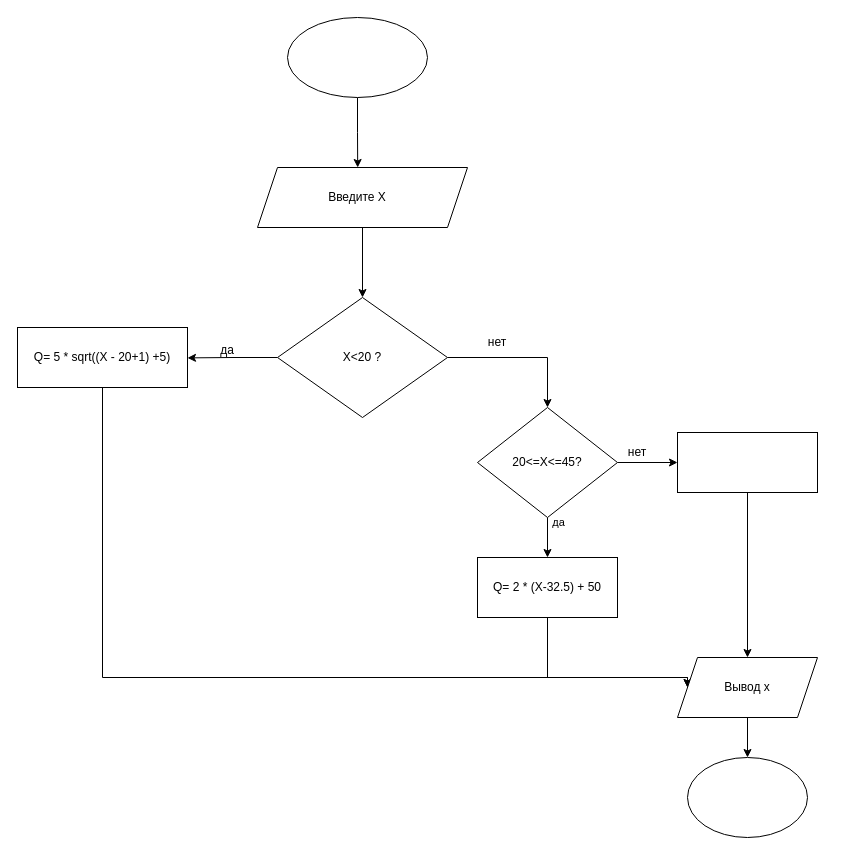
Some shapes in this 843 by 855 pixel diagram are drawn without their labels. Here are the shapes that lost their labels. From the top down, the box of each, then its label:
(286, 16, 428, 98): Начало
(676, 432, 818, 492): Q= 4 * log(X - 45+2) + 60
(686, 756, 808, 838): Конец
